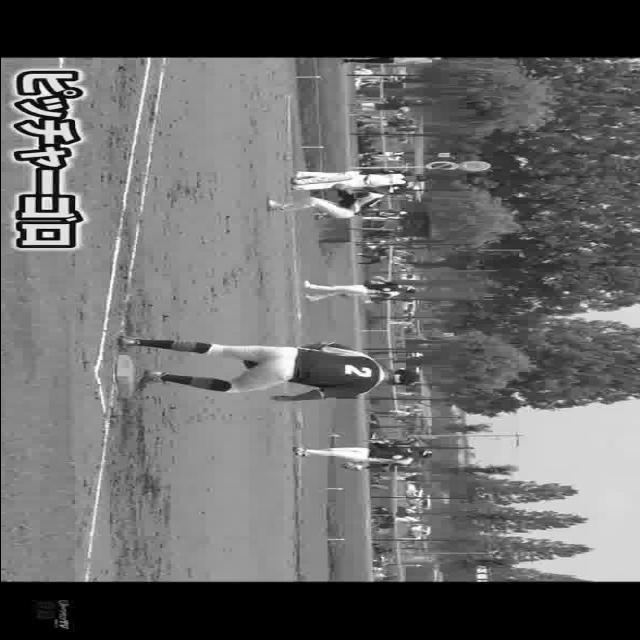base: (116, 353, 138, 402)
baseball_glove: (332, 184, 354, 192)
shoe: (261, 198, 287, 214), (143, 371, 166, 388), (115, 334, 138, 349)
